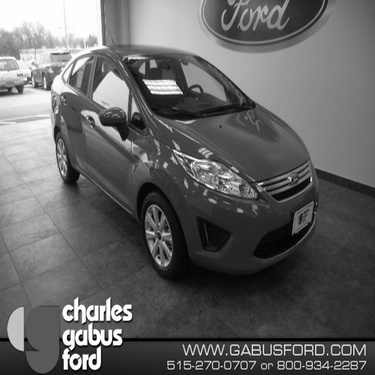car: (42, 36, 332, 285), (17, 42, 74, 96), (1, 51, 31, 96)
